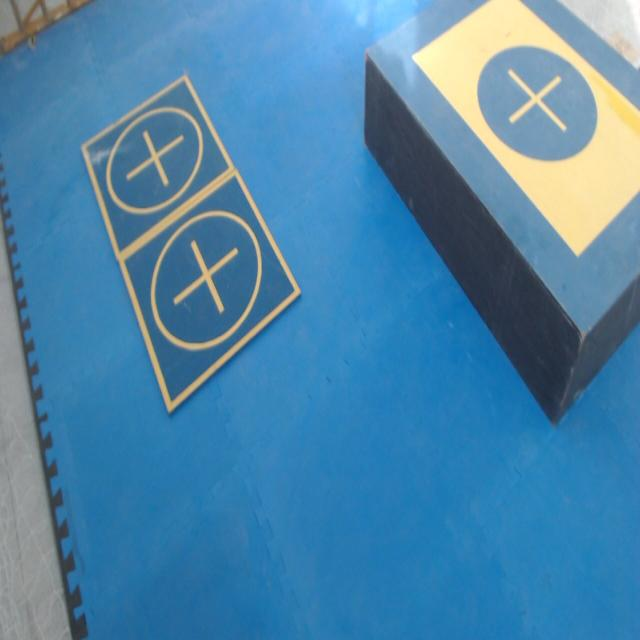base_inicio: (410, 0, 640, 256)
base_pouso: (119, 166, 303, 414), (78, 72, 236, 262)
